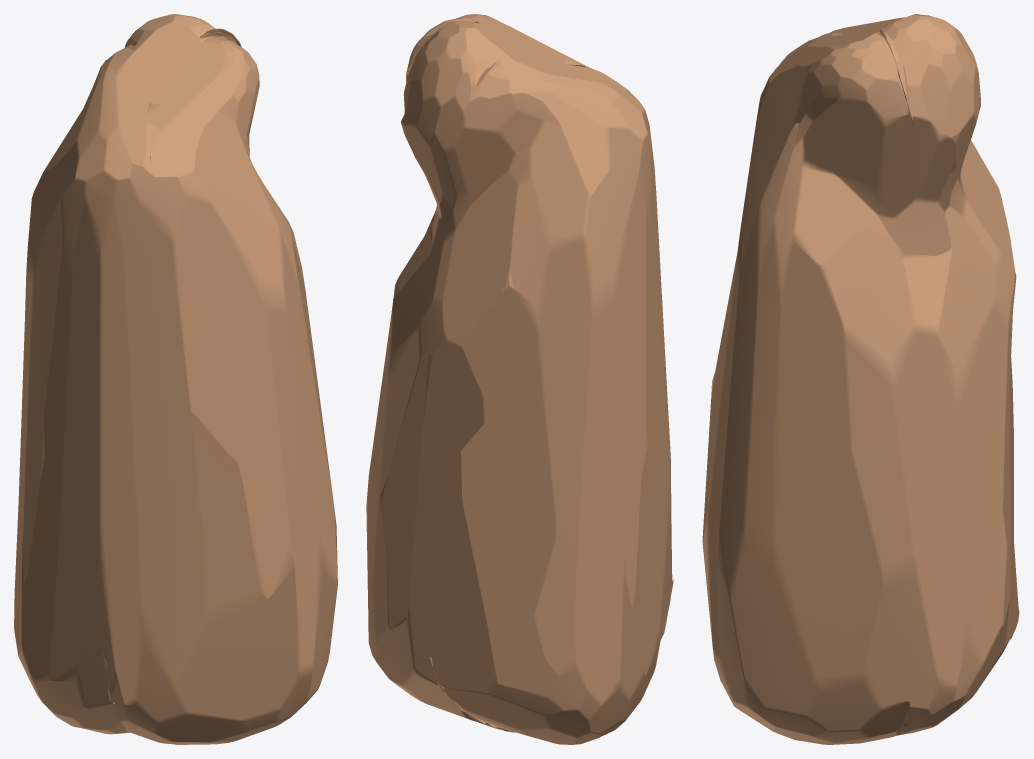
The picture shows the model from 3 angles, left to right: view 1: azimuth 30°, elevation 25°; view 2: azimuth 150°, elevation 25°; view 3: azimuth 270°, elevation 25°; orthographic projection. The views are drawn at different scales.
Parts seen in each view (by area): view 1: Mesh_24_LOD0; view 2: Mesh_24_LOD0; view 3: Mesh_24_LOD0.
Boxes of the visible parts, box(x1,y1,x2,y2) form: Mesh_24_LOD0: box(14, 14, 337, 744); Mesh_24_LOD0: box(366, 14, 673, 744); Mesh_24_LOD0: box(702, 14, 1019, 744).
Size of what is drawn, in the model's own units: 401 by 987 by 400.
